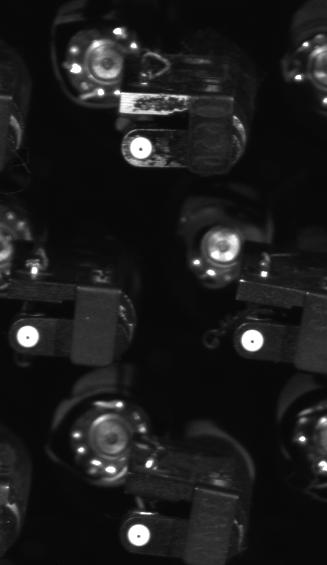fiber: (231, 324, 273, 361), (11, 319, 52, 356), (122, 519, 162, 552), (125, 131, 157, 164)
